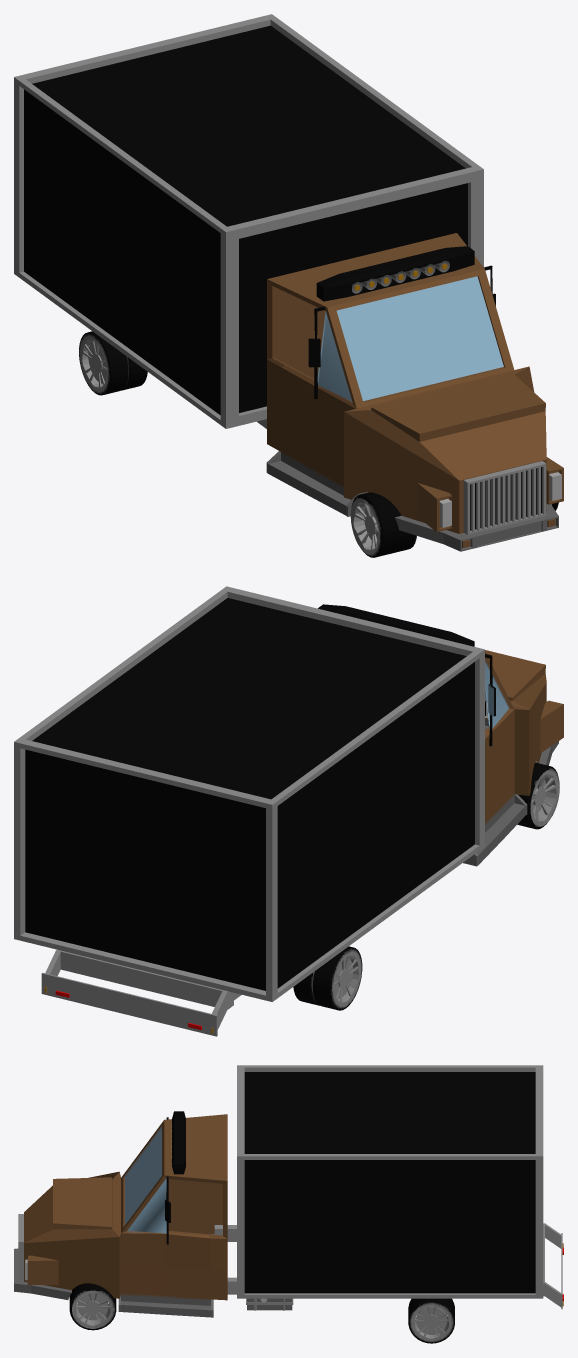
3 views of the same model, one above another, from view 1: azimuth 30°, elevation 25°; view 2: azimuth 150°, elevation 25°; view 3: azimuth 270°, elevation 25° (orthographic). The views are drawn at different scales.
Visible parts, largest first — view 1: Car_7; view 2: Car_7; view 3: Car_7.
Boxes of the visible parts, x1=… form: Car_7: x1=14, y1=14, x2=563, y2=557; Car_7: x1=14, y1=586, x2=563, y2=1036; Car_7: x1=14, y1=1065, x2=563, y2=1343.
Size of the model in its own units: 4.73 by 4.57 by 12.1.
Materials: 7 (7 with a texture image).
